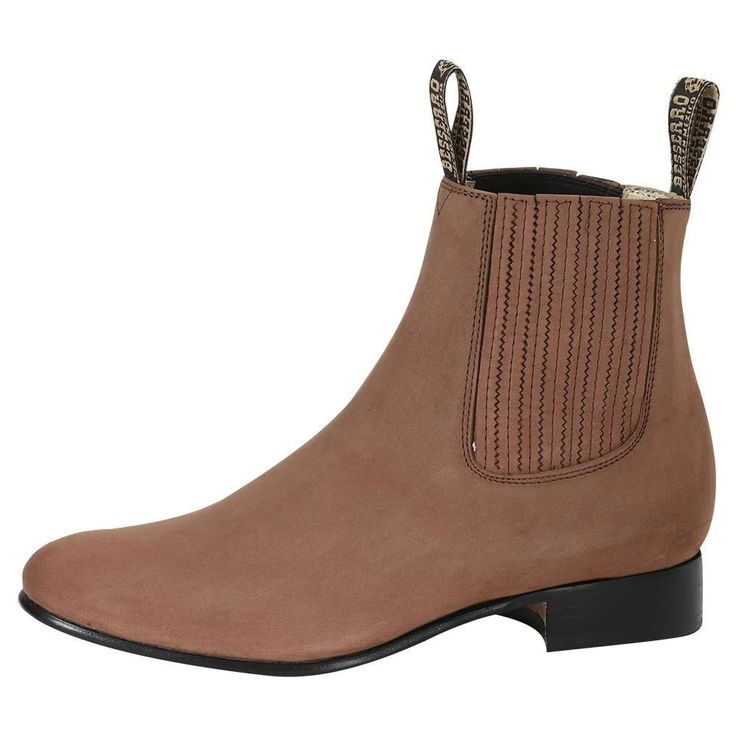gamuza: (25, 178, 717, 662)
